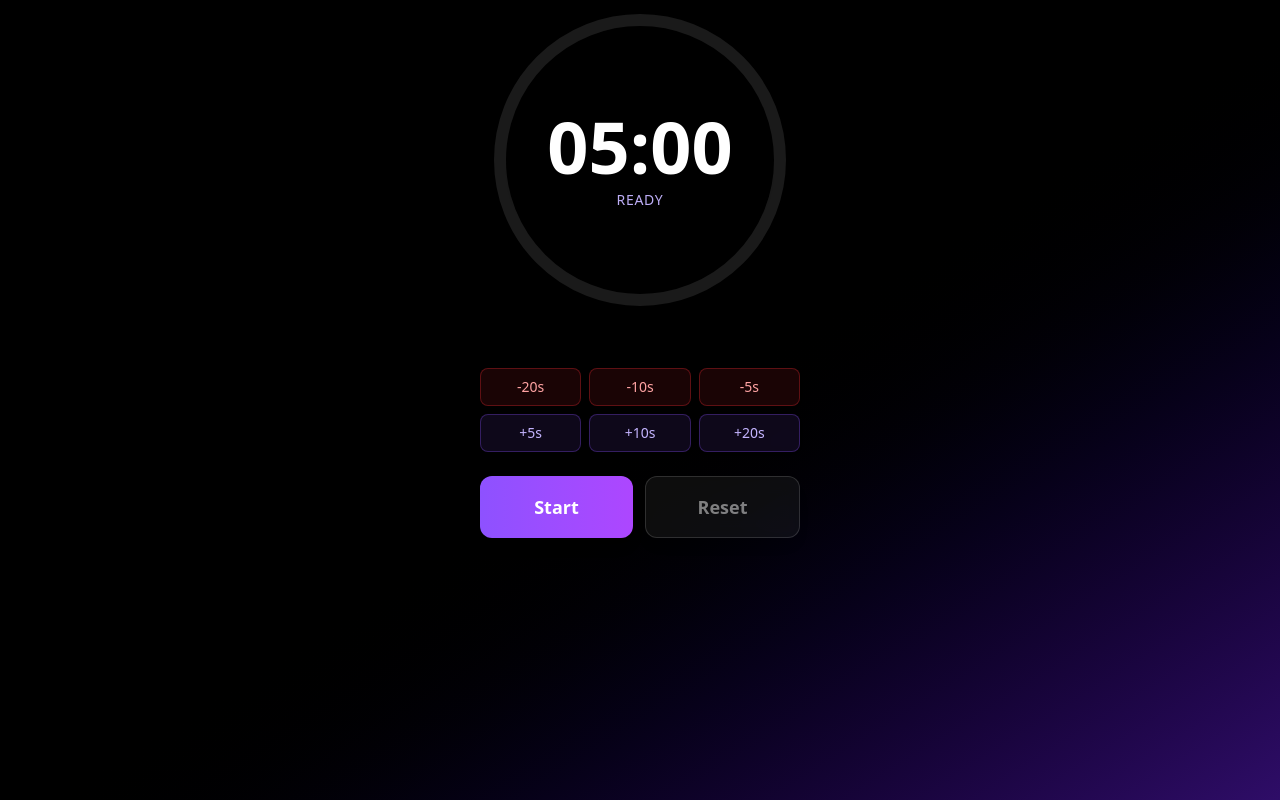
Test: Pomodoro Timer › 1. starts the timer › counts down each second after clicking Start
Click the button "Start" at (556, 507), box [480, 476, 633, 538]
Wait 2000 ms
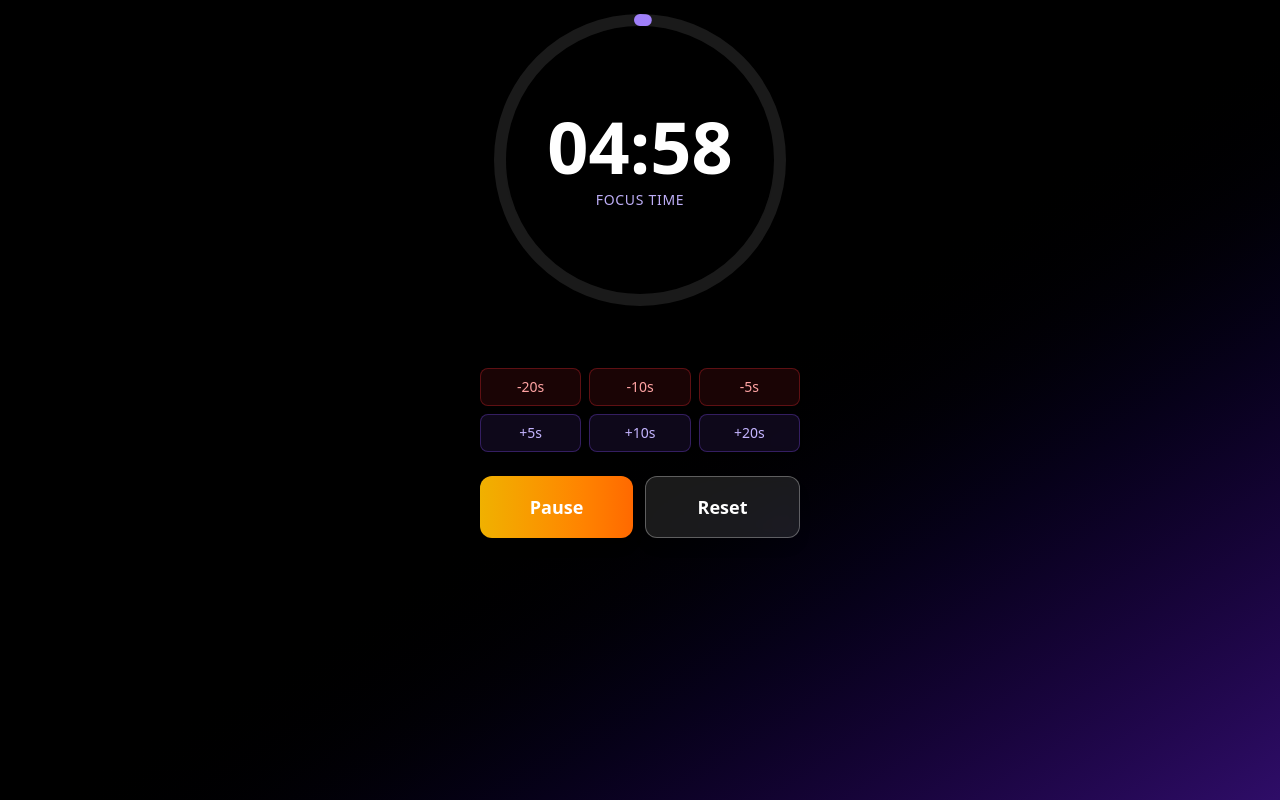
Expected: the text "04:58" is shown, [547, 110, 733, 182]
